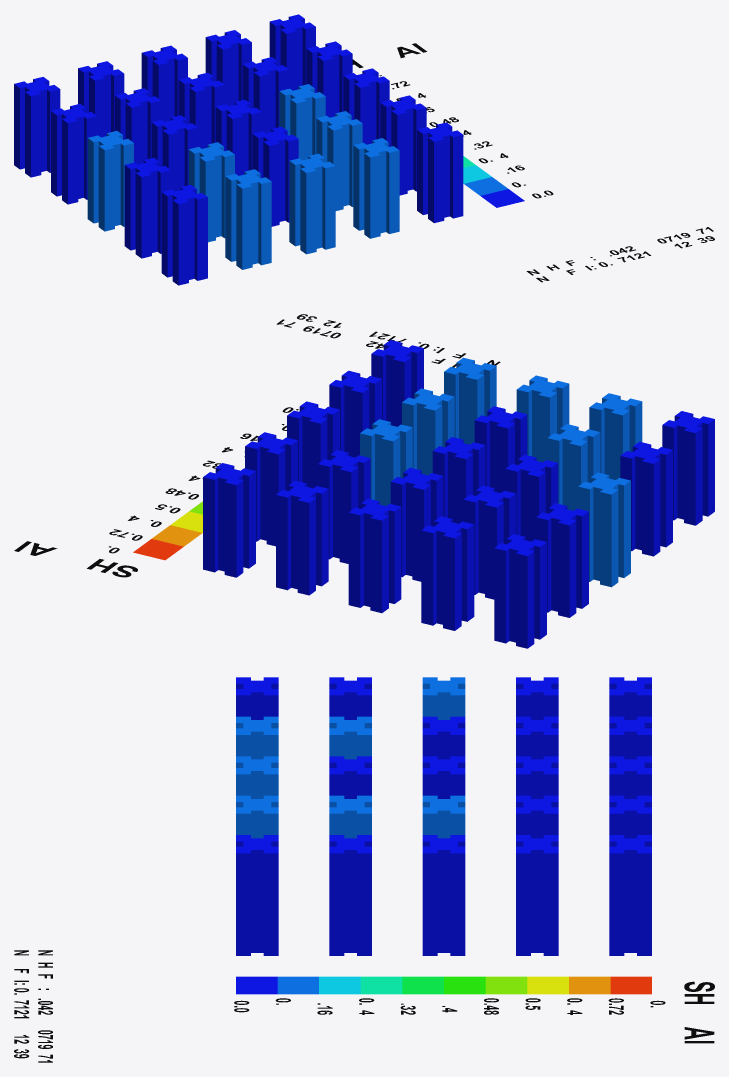
File: punggol_luse101_nshffai2.dae
3 views of the same model, one above another, from view 1: azimuth 30°, elevation 25°; view 2: azimuth 150°, elevation 25°; view 3: azimuth 270°, elevation 25° (orthographic). The views are drawn at different scales.
Parts seen in each view (by area): view 1: node0 (×5); view 2: node0 (×5); view 3: node0 (×13).
Boxes of the visible parts, x1=… form: node0 (×5): x1=14, y1=14, x2=714, y2=285; node0 (×5): x1=14, y1=314, x2=714, y2=648; node0 (×13): x1=14, y1=677, x2=714, y2=1062.
Size of the model in its own units: 530 by 556 by 90.
